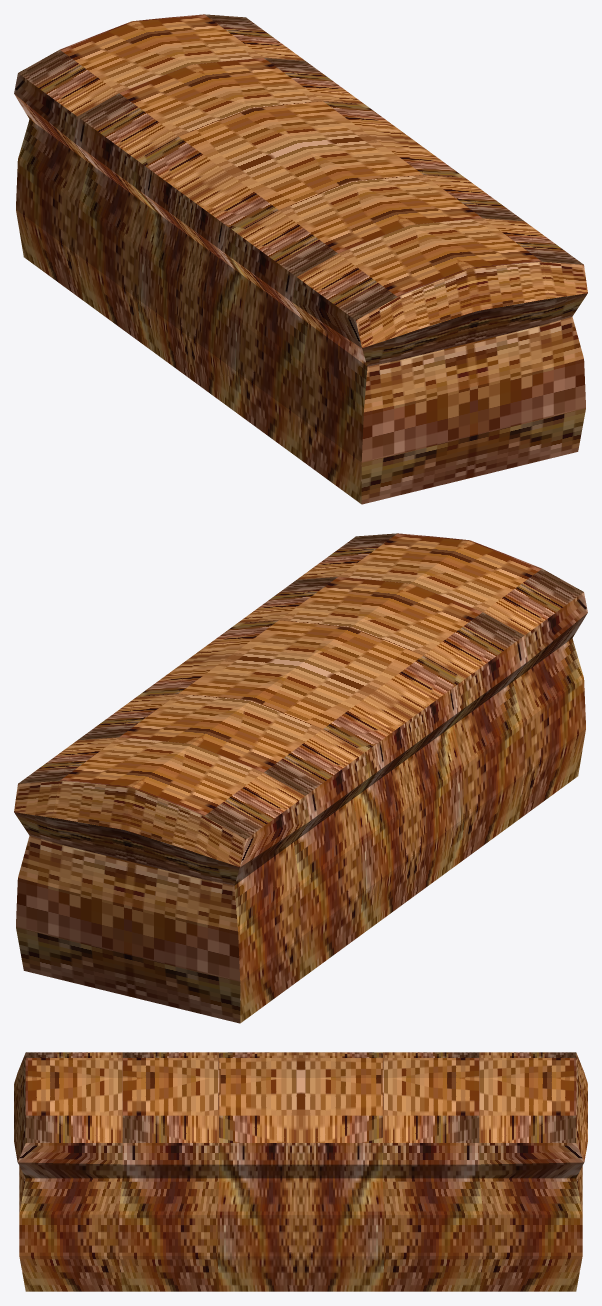
Rendered from bread.fbx.
3 renders of one model, top to bottom at view 1: azimuth 30°, elevation 25°; view 2: azimuth 150°, elevation 25°; view 3: azimuth 270°, elevation 25°, orthographic. The views are drawn at different scales.
Parts seen in each view (by area): view 1: Cube; view 2: Cube; view 3: Cube.
Boxes of the visible parts, x1=… form: Cube: x1=14, y1=14, x2=587, y2=504; Cube: x1=14, y1=533, x2=587, y2=1023; Cube: x1=14, y1=1052, x2=587, y2=1291.
Size of the model in its own units: 2.88 by 2.44 by 7.45.
